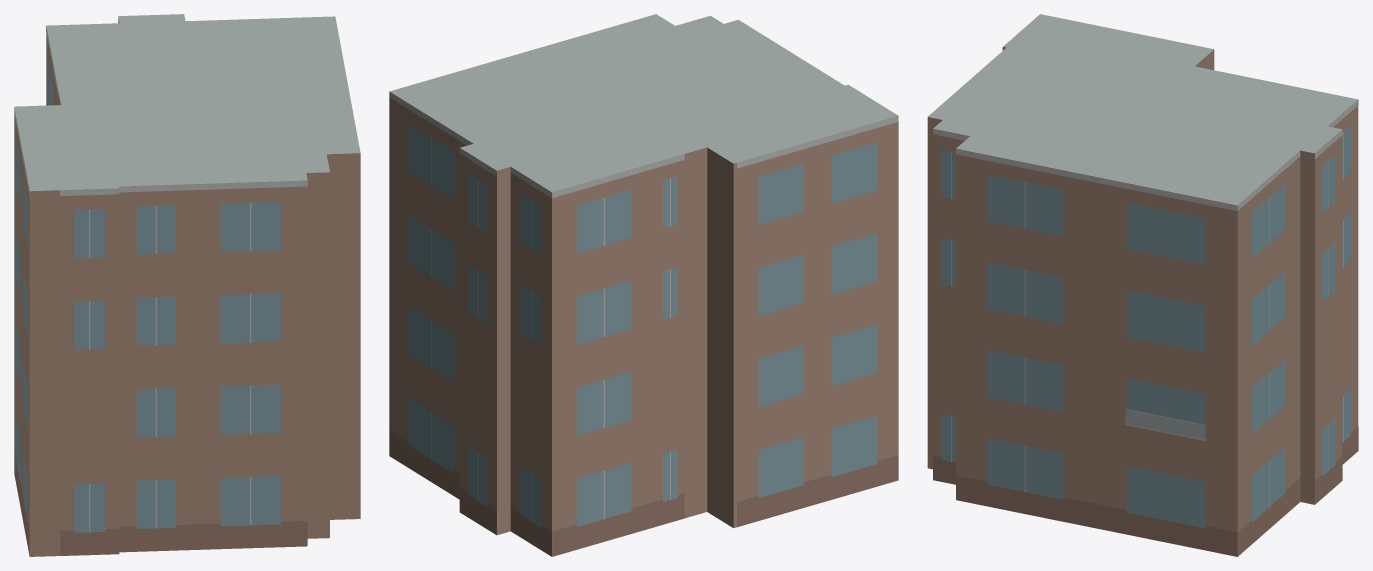
The model's file is survey-upis-32748757.glb.
The picture shows the model from 3 angles, left to right: view 1: azimuth 30°, elevation 25°; view 2: azimuth 150°, elevation 25°; view 3: azimuth 270°, elevation 25°; orthographic projection. The views are drawn at different scales.
Visible parts, largest first — view 1: survey-upis-32748757.tmp; view 2: survey-upis-32748757.tmp; view 3: survey-upis-32748757.tmp.
Part boxes in pixels (x1=…): survey-upis-32748757.tmp: x1=14, y1=14, x2=360, y2=556; survey-upis-32748757.tmp: x1=389, y1=14, x2=898, y2=556; survey-upis-32748757.tmp: x1=927, y1=14, x2=1358, y2=556.
Size of the model in its own units: 17.53 by 15 by 16.68.
